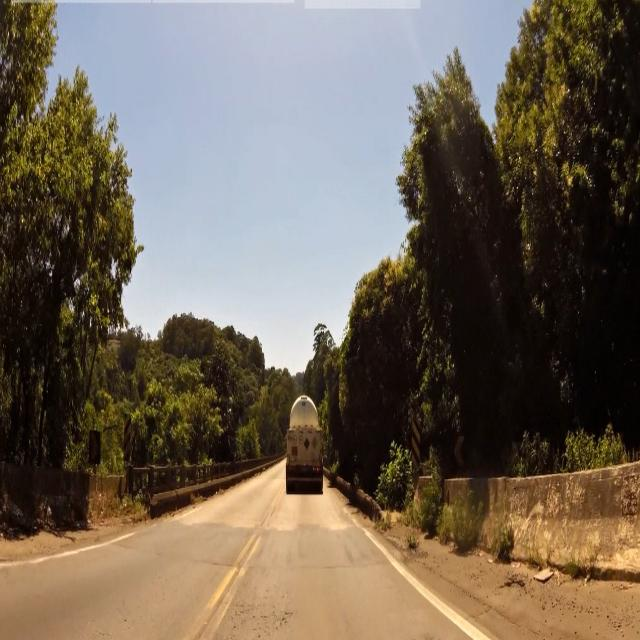MP: (412, 417, 419, 470)
